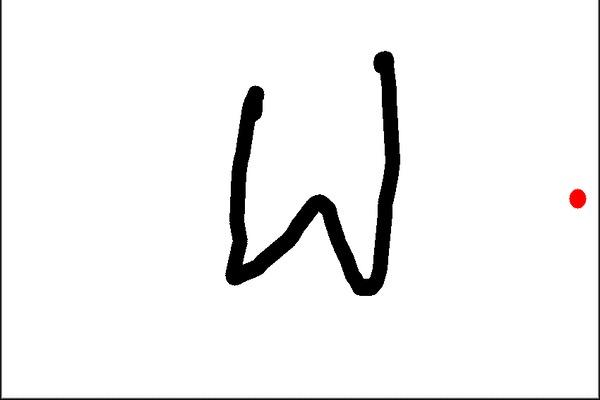w: (205, 34, 410, 311)
